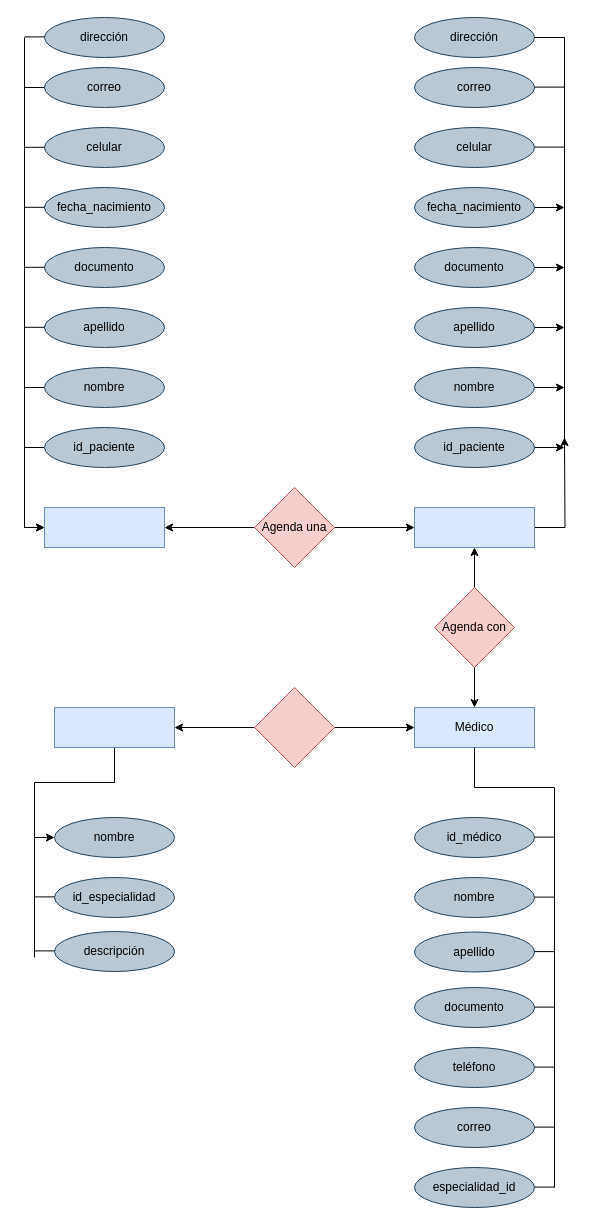
Some shapes in this 591 by 1225 pixel diagram are drawn without their labels. The shapes that lost their labels are listed below. From the top down, each one's centre as x and y in pixels, then its label:
At (x=104, y=527): "Paciente".
At (x=474, y=527): "Cita".
At (x=114, y=727): "Especialidad".
At (x=294, y=727): "Tiene".
